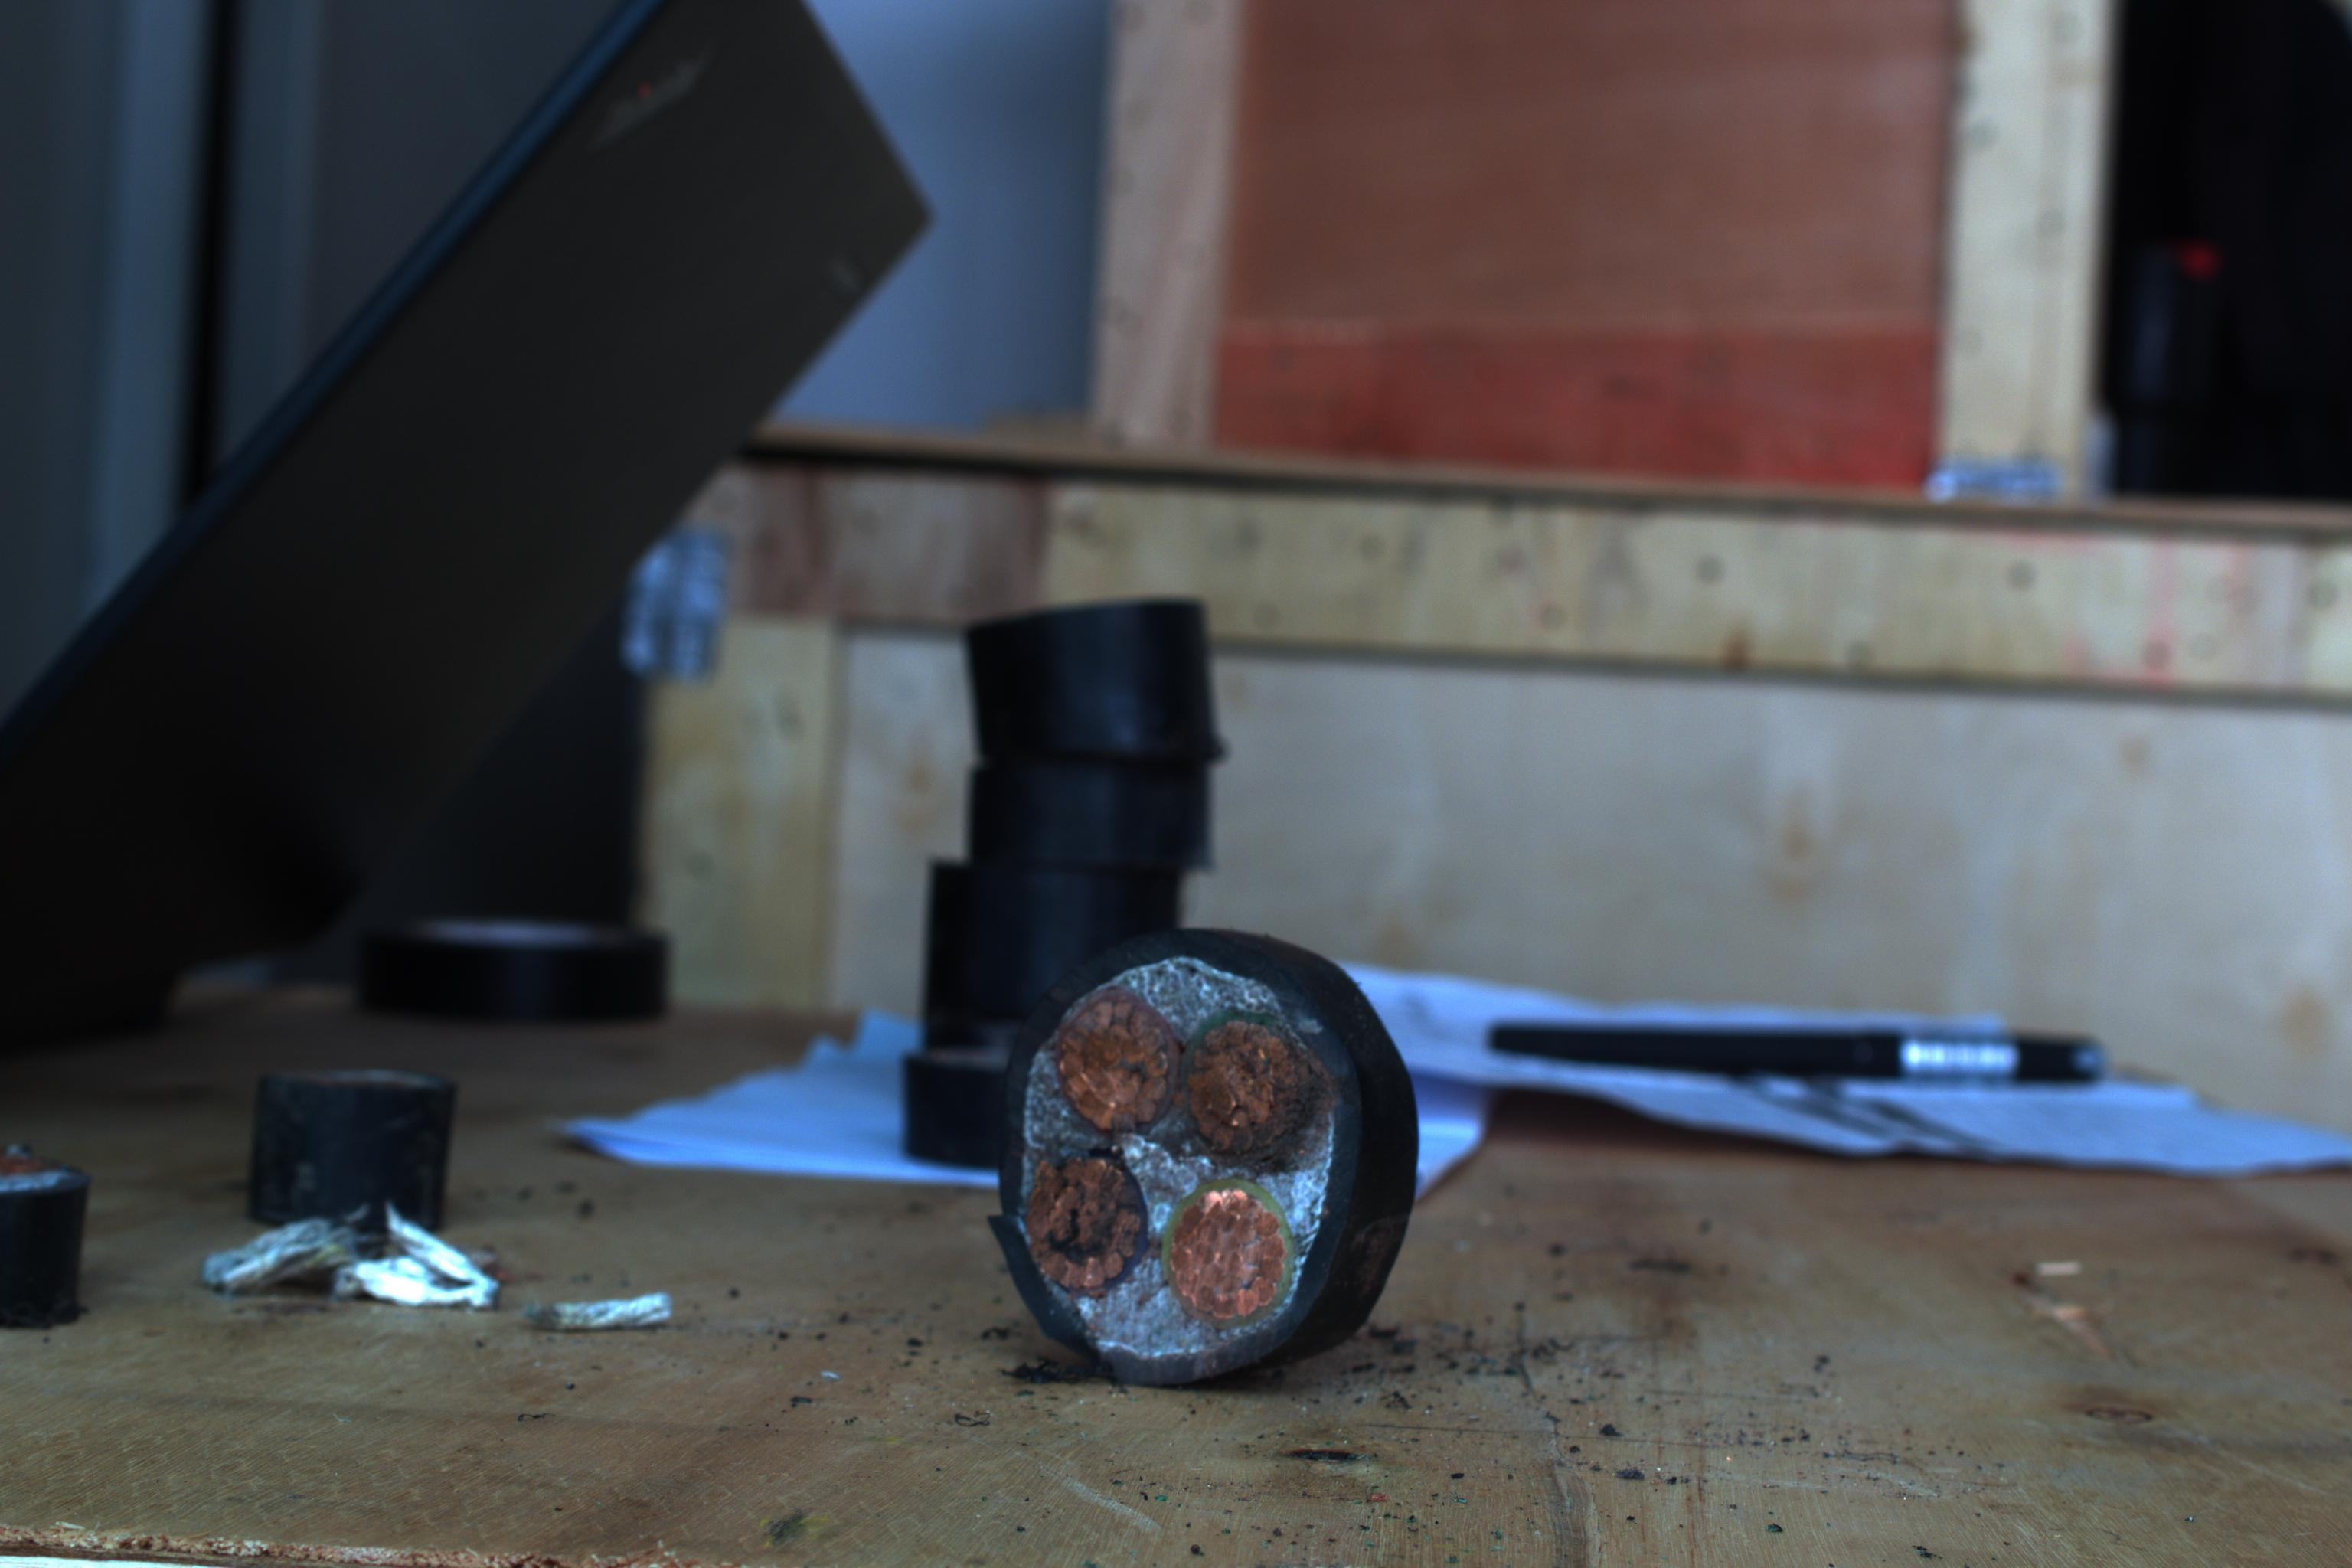YJV_0.6_1kV_4x120: (1011, 927, 1346, 1384)
